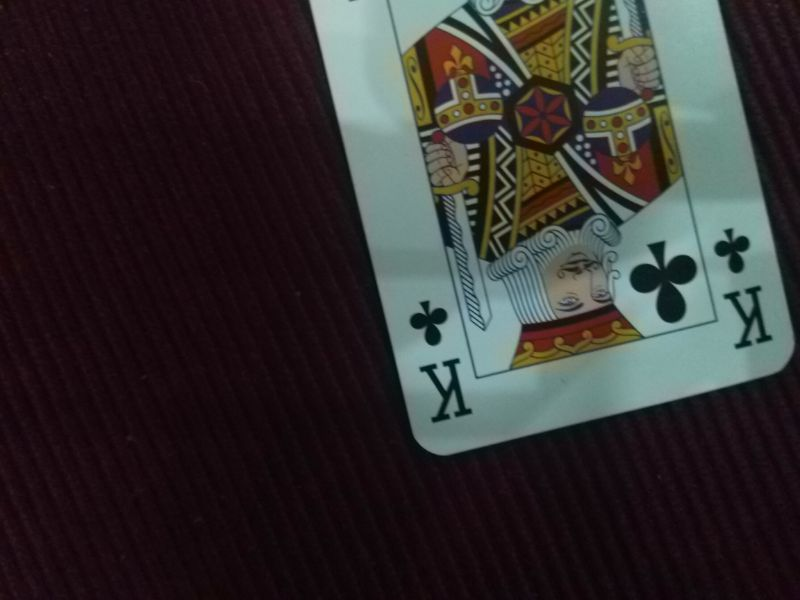Kc: (405, 297, 478, 427), (709, 221, 778, 352)
